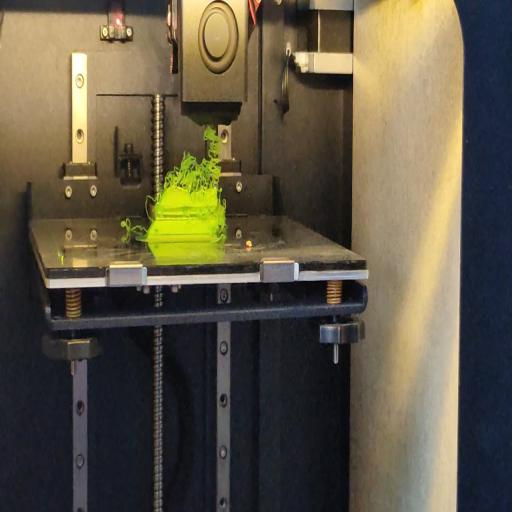spaghetti: (164, 123, 220, 189), (119, 215, 145, 239), (144, 192, 155, 220), (217, 233, 226, 241)
